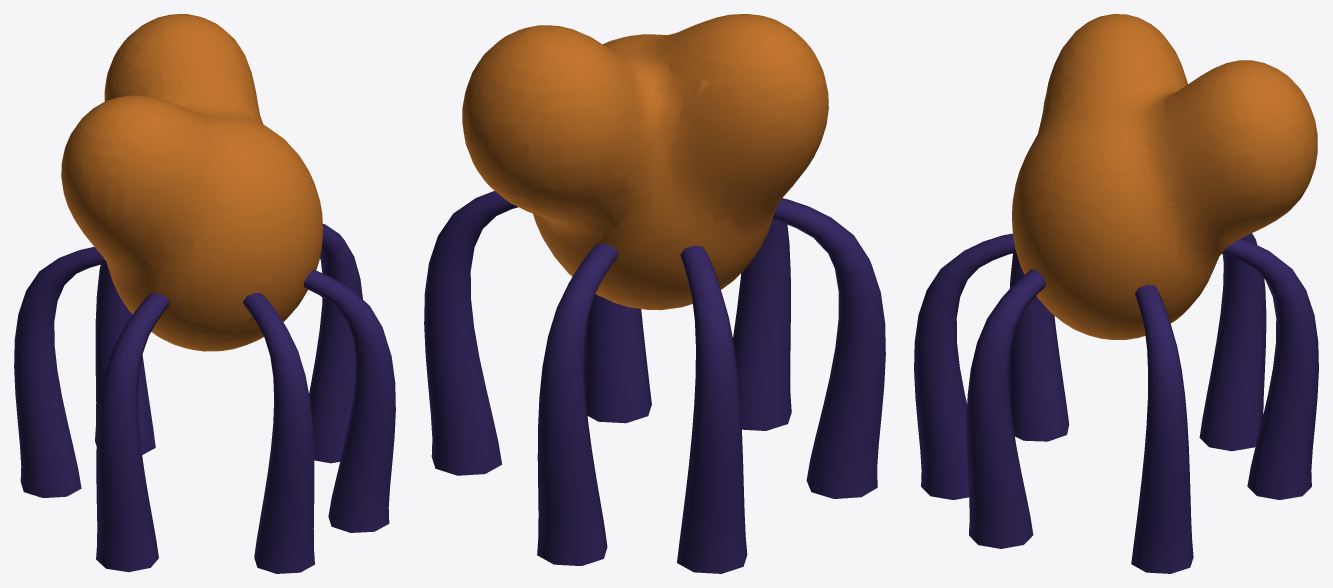
Rendered from Tree Blob-j0byyoIGOv.glb.
3 renders of one model, left to right at view 1: azimuth 30°, elevation 25°; view 2: azimuth 150°, elevation 25°; view 3: azimuth 270°, elevation 25°, orthographic. The views are drawn at different scales.
Parts seen in each view (by area): view 1: Tree_Blob_2; view 2: Tree_Blob_2; view 3: Tree_Blob_2.
Boxes of the visible parts, box(x1,y1,x2,y2) form: Tree_Blob_2: box(14, 14, 395, 573); Tree_Blob_2: box(424, 14, 885, 573); Tree_Blob_2: box(914, 14, 1318, 573).
Size of the model in its own units: 3.69 by 4.61 by 3.86.
Materials: 1 (1 with a texture image).
